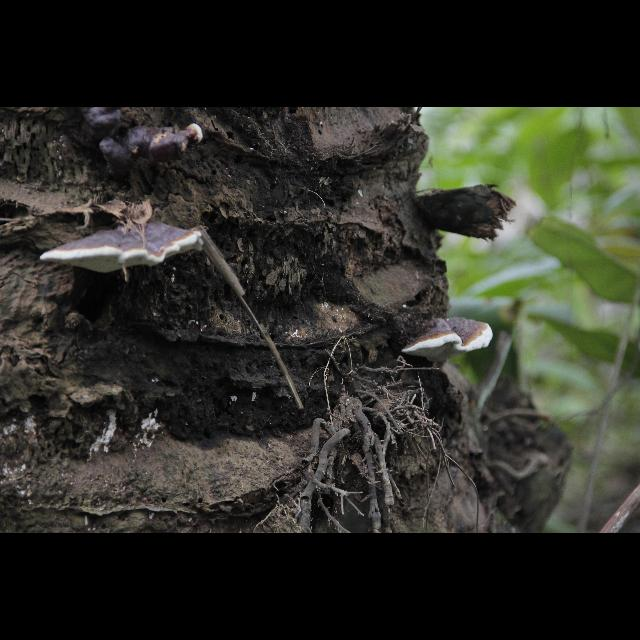ganoderma: (41, 220, 206, 274), (80, 109, 186, 182), (402, 318, 495, 364)
primordium: (187, 124, 204, 146)
